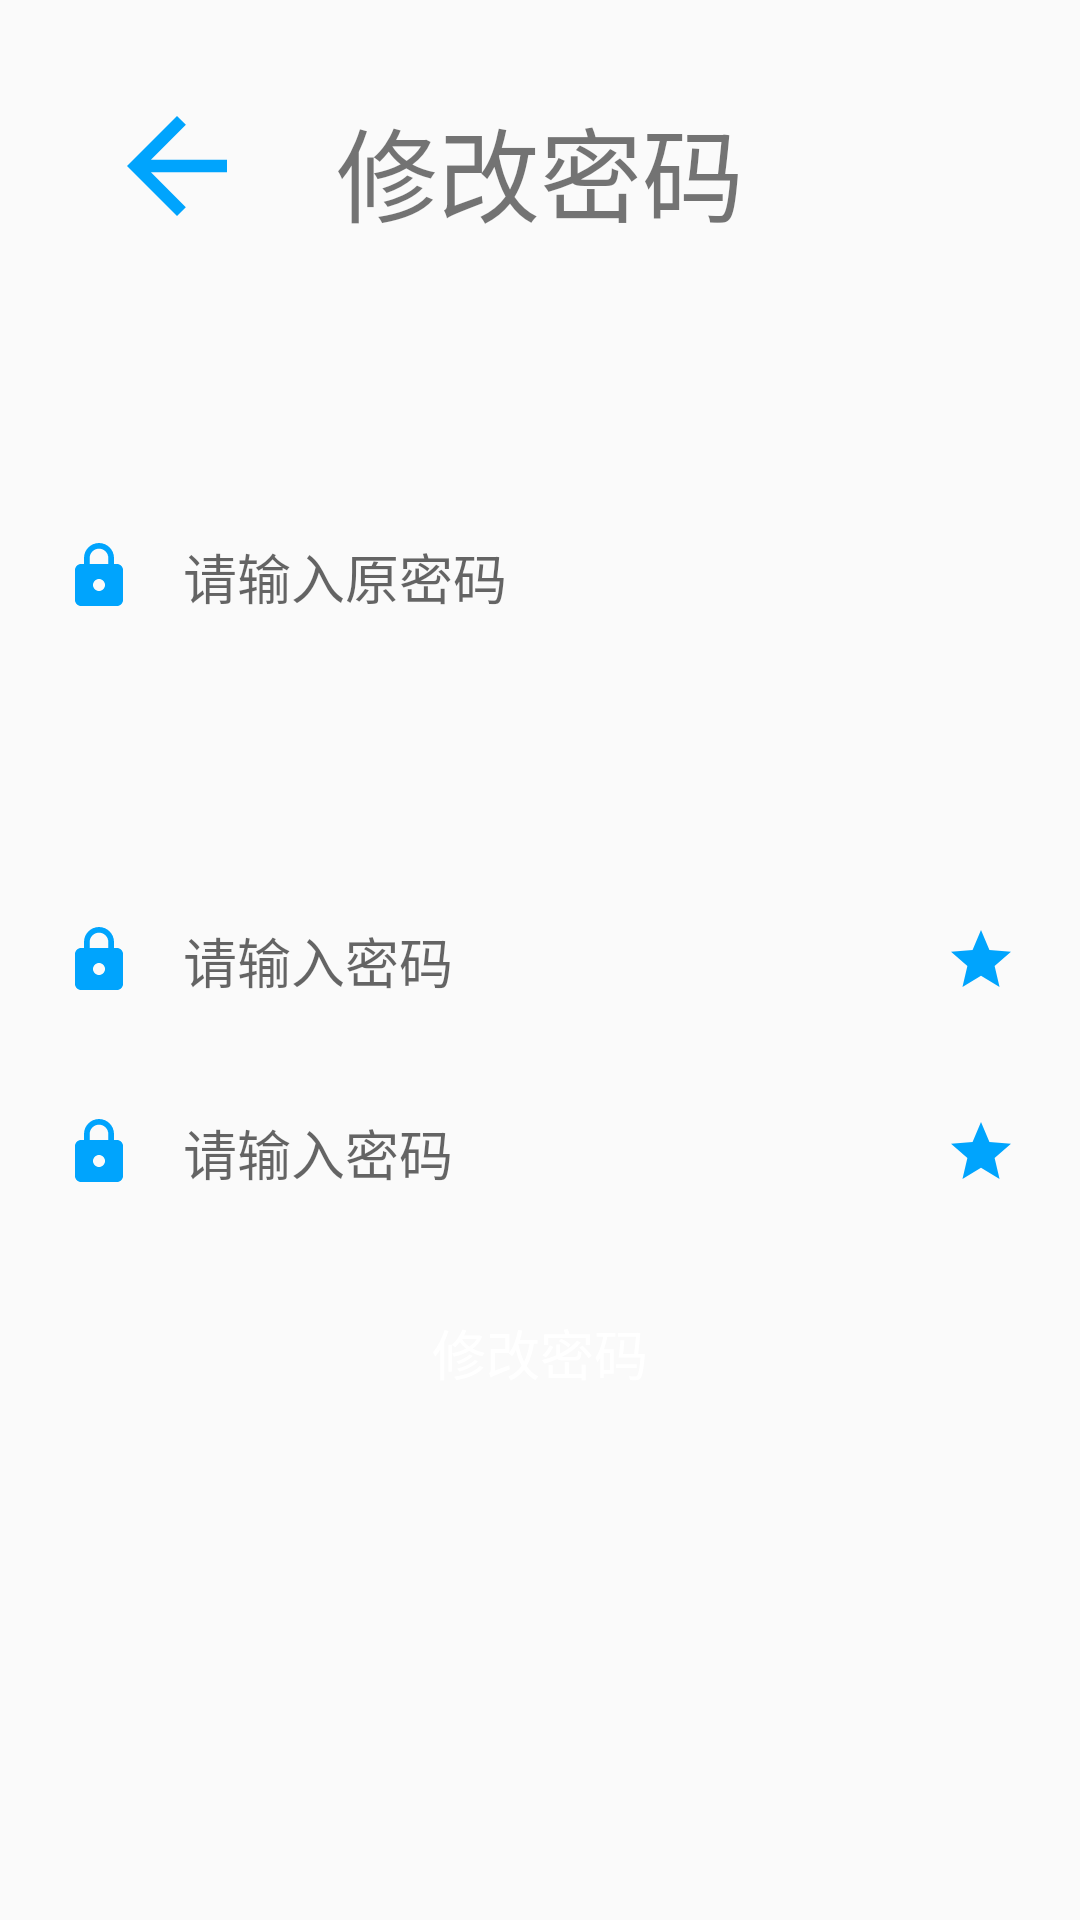

Point at icon controls on the screen. Image size 1080*1920, points as point (x, y).
back: point (177, 166)
